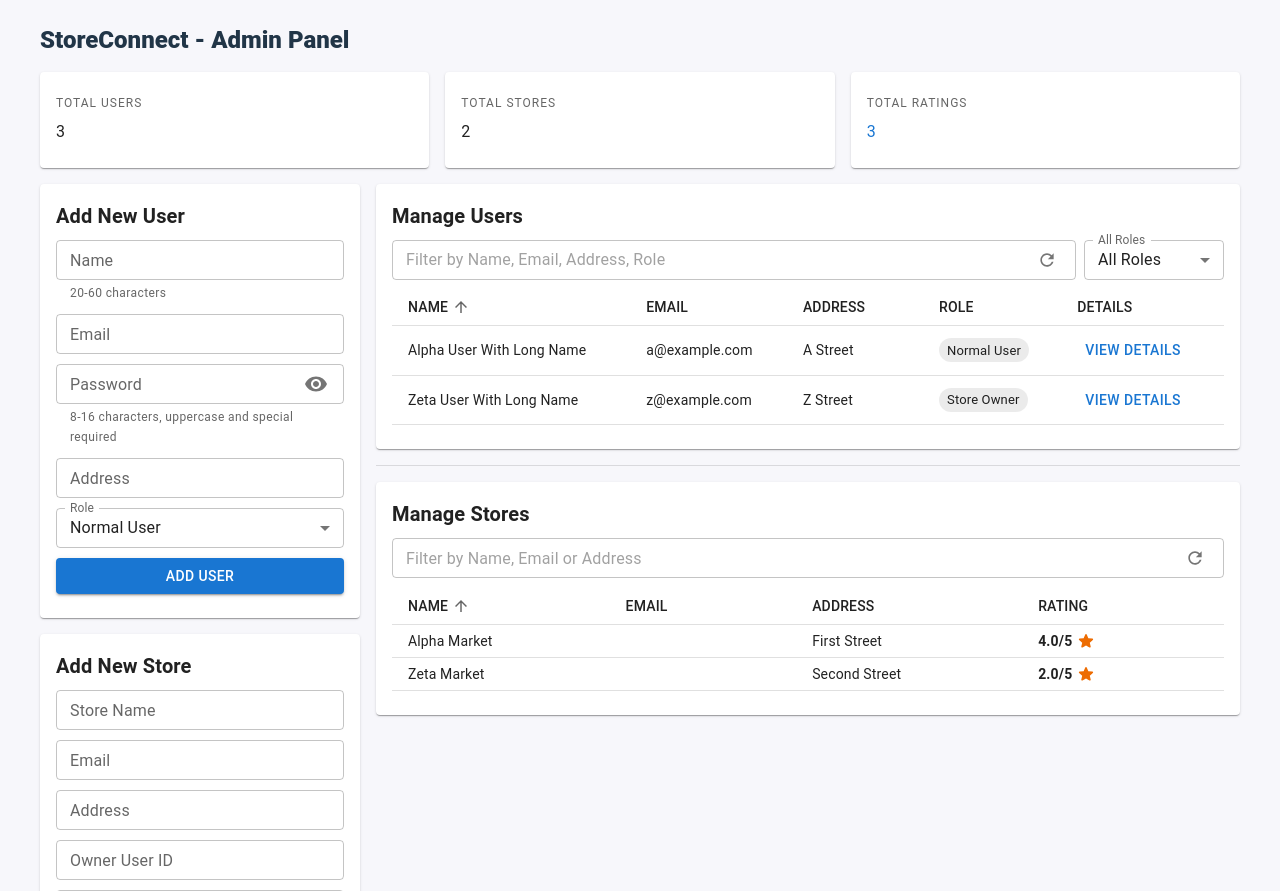
Test: admin and owner dashboards › admin sorts both ways and opens user details
The width and height of the screenshot is (1280, 891).
Check: the text "Zeta User With Long Name" is shown, box [392,375,630,425]
Check: the row that starts with "Alpha User With Long Name" is shown, box [408,342,586,358]
Click the button "NAME" below "Manage Users". click: (441, 307)
box: [408,295,474,319]
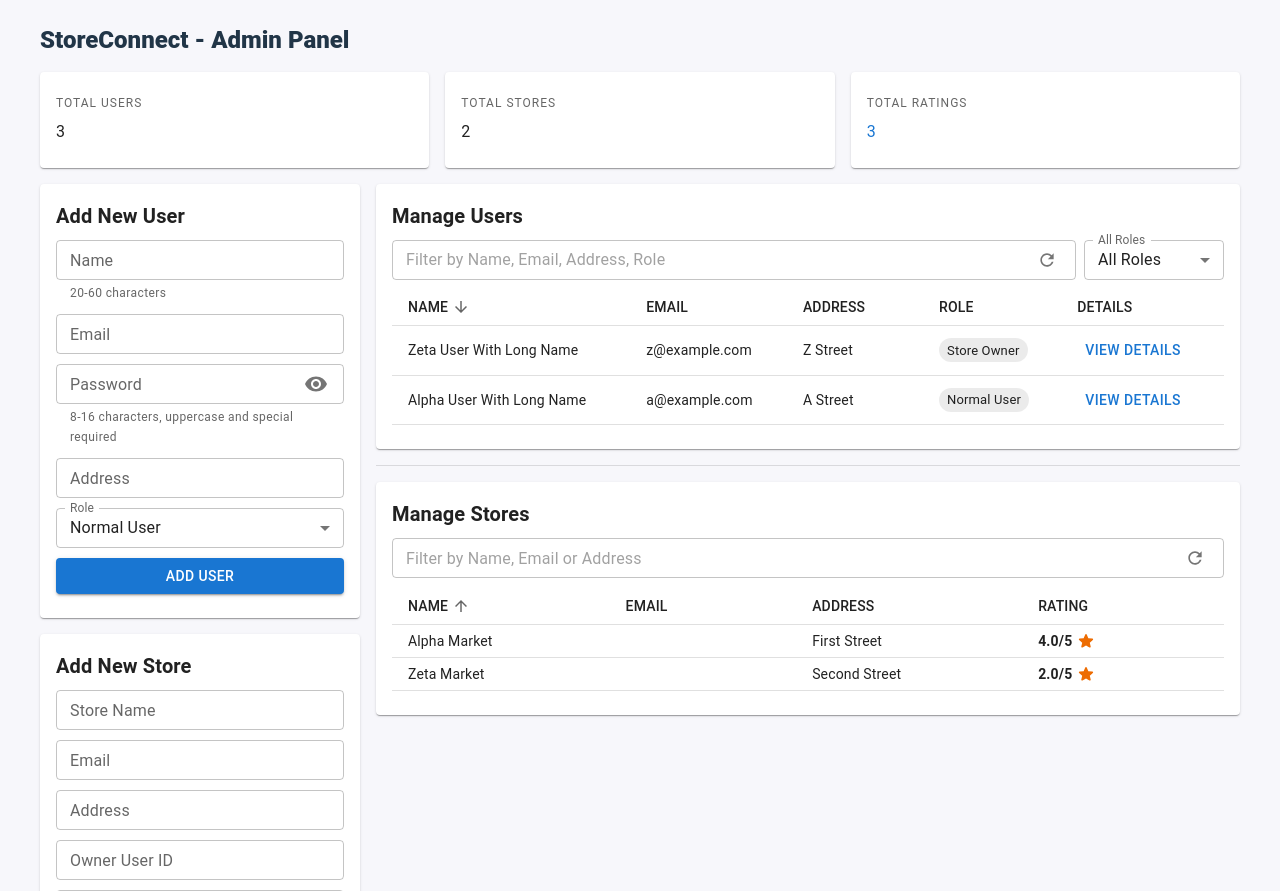
Check: the row that starts with "Zeta User With Long Name" is shown, box [408,342,578,358]
Click the button "View details" in the row of "Zeta User With Long Name". click: (1133, 350)
box: [1077,332,1189,369]
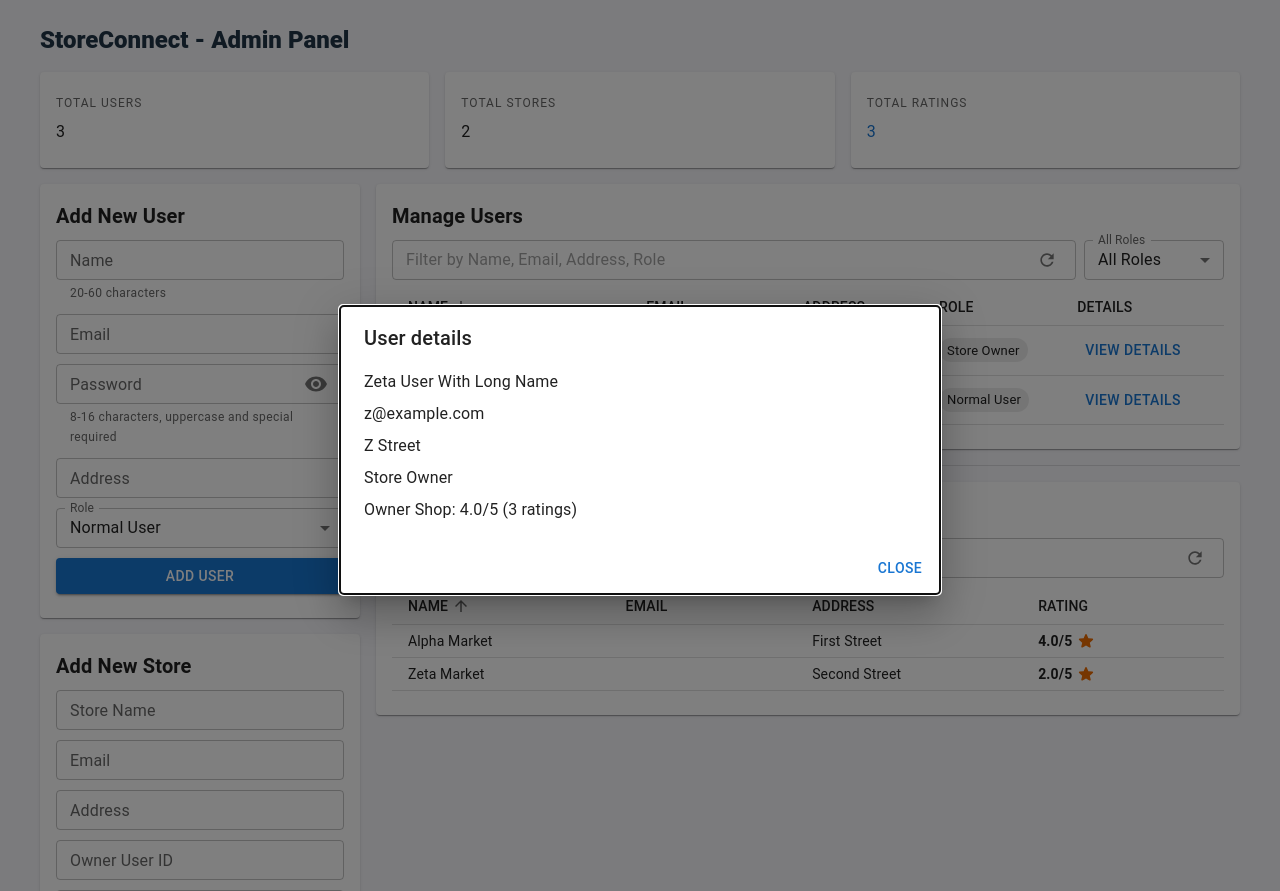
Check: the text "Owner Shop: 4.0/5 (3 ratings)" is shown, box [364,500,577,519]
